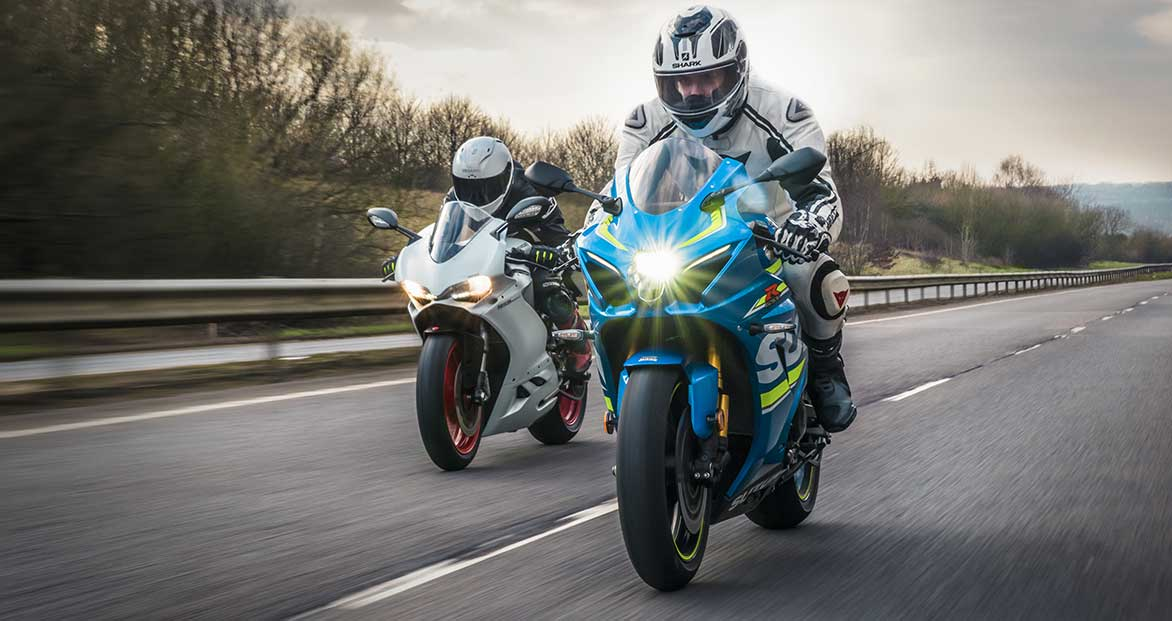helmet: (635, 2, 771, 140), (440, 116, 524, 227)
